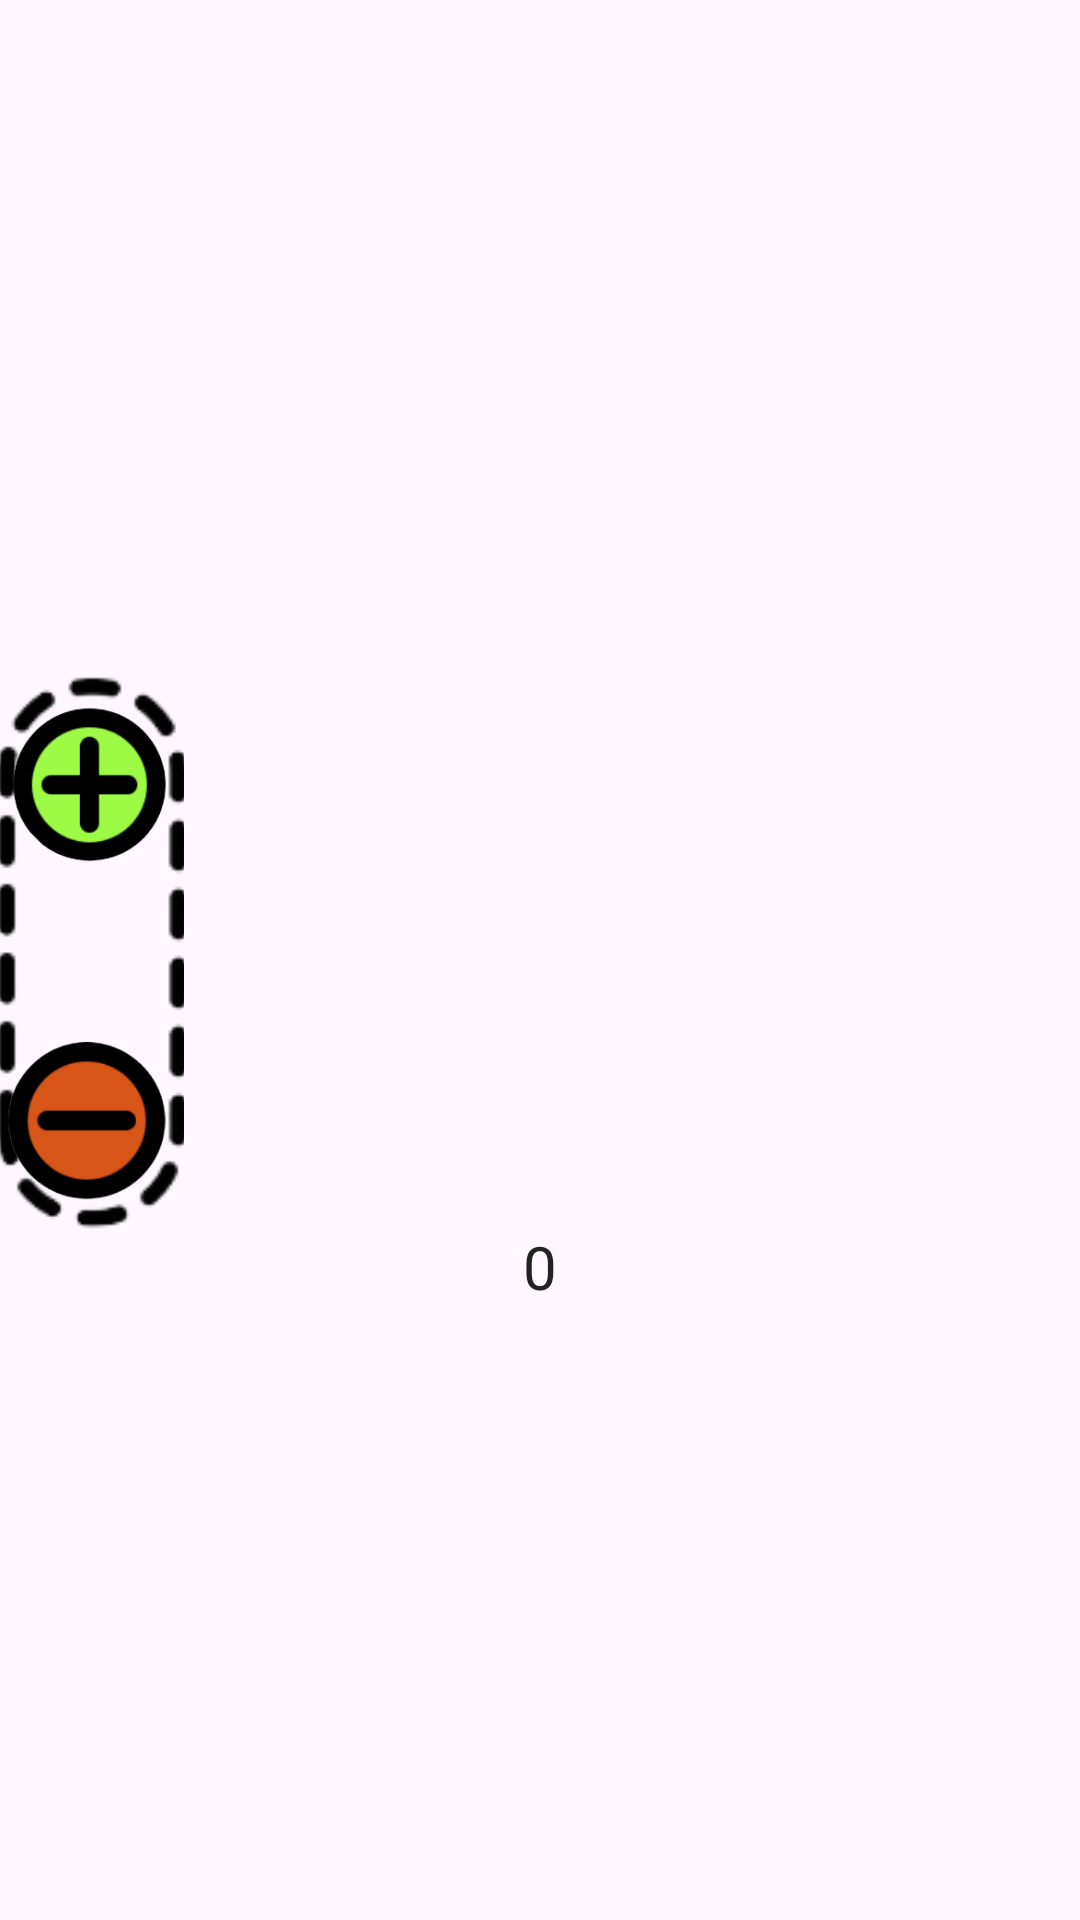

Where to tap for icons on this 1080×1920 app screen, as point (x, y):
decrease: point (92, 1124)
increase: point (92, 775)
